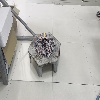fire: (40, 32, 45, 40)
